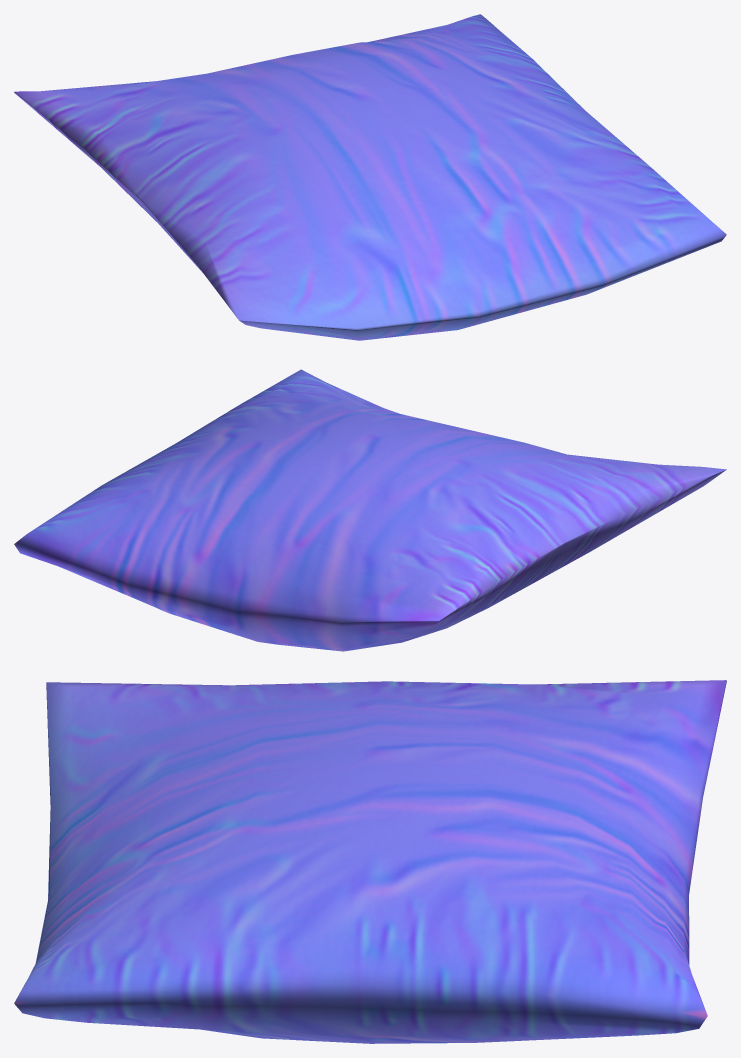
Rendered from pillow.FBX.
3 views of the same model, one above another, from view 1: azimuth 30°, elevation 25°; view 2: azimuth 150°, elevation 25°; view 3: azimuth 270°, elevation 25° (orthographic). The views are drawn at different scales.
Parts seen in each view (by area): view 1: pillow; view 2: pillow; view 3: pillow.
Part boxes in pixels (box(x1,y1,x2,y2)): pillow: box(14, 14, 726, 340); pillow: box(14, 369, 726, 651); pillow: box(14, 680, 726, 1043).
Size of the model in its own units: 41.85 by 15 by 39.95.
